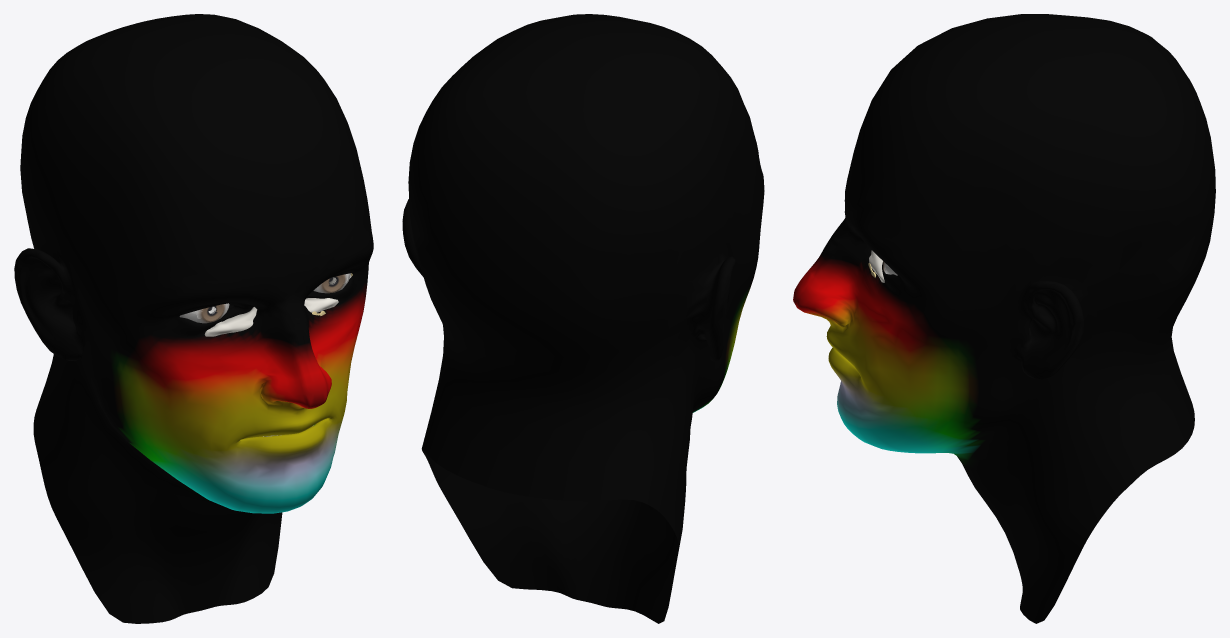
The model's file is ozea-skull.glb.
3 views of the same model, side by side, from view 1: azimuth 30°, elevation 25°; view 2: azimuth 150°, elevation 25°; view 3: azimuth 270°, elevation 25° (orthographic). The views are drawn at different scales.
Parts seen in each view (by area): view 1: face, cranium, eyes; view 2: face; view 3: face.
Part boxes in pixels (x1=…): face: x1=14, y1=14, x2=373, y2=623; cranium: x1=204, y1=298, x2=328, y2=336; eyes: x1=179, y1=273, x2=350, y2=323; face: x1=402, y1=14, x2=764, y2=623; face: x1=793, y1=14, x2=1215, y2=623.
Size of the model in its own units: 17.21 by 28.89 by 19.89.
